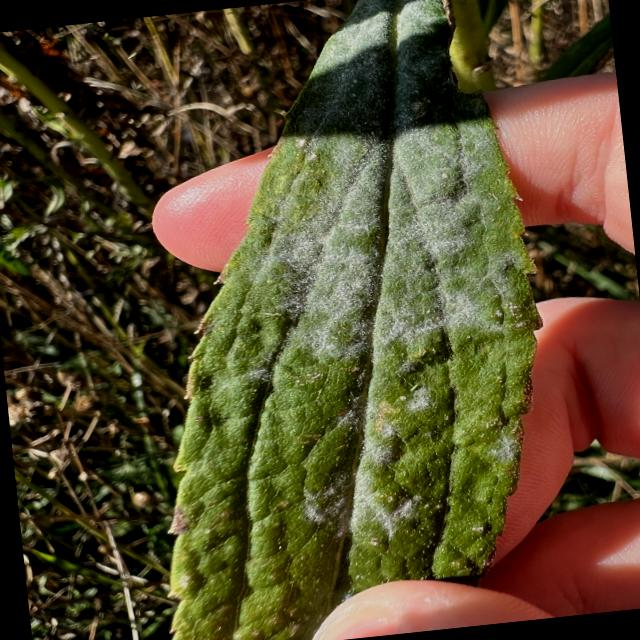powdery_mildew: (172, 0, 539, 640)
